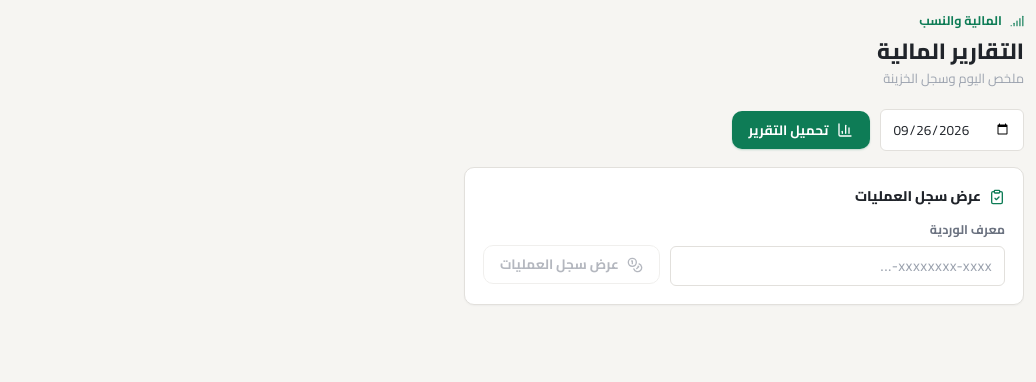
it: ReportsPage (OperationsPage mode="reports") › shows a load error when the daily report endpoint fails
Click the button "تحميل التقرير" at coordinates (801, 130), box [732,110,870,149]
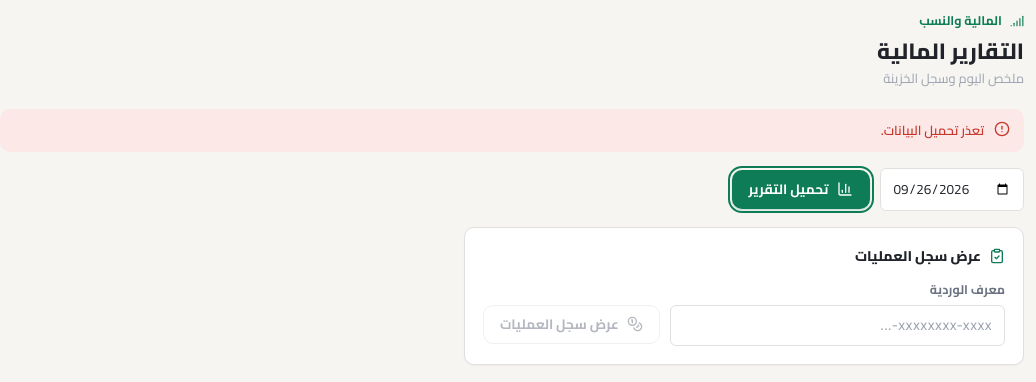
expect the message reads "تعذر تحميل البيانات.": met, box [881,118,984,142]
